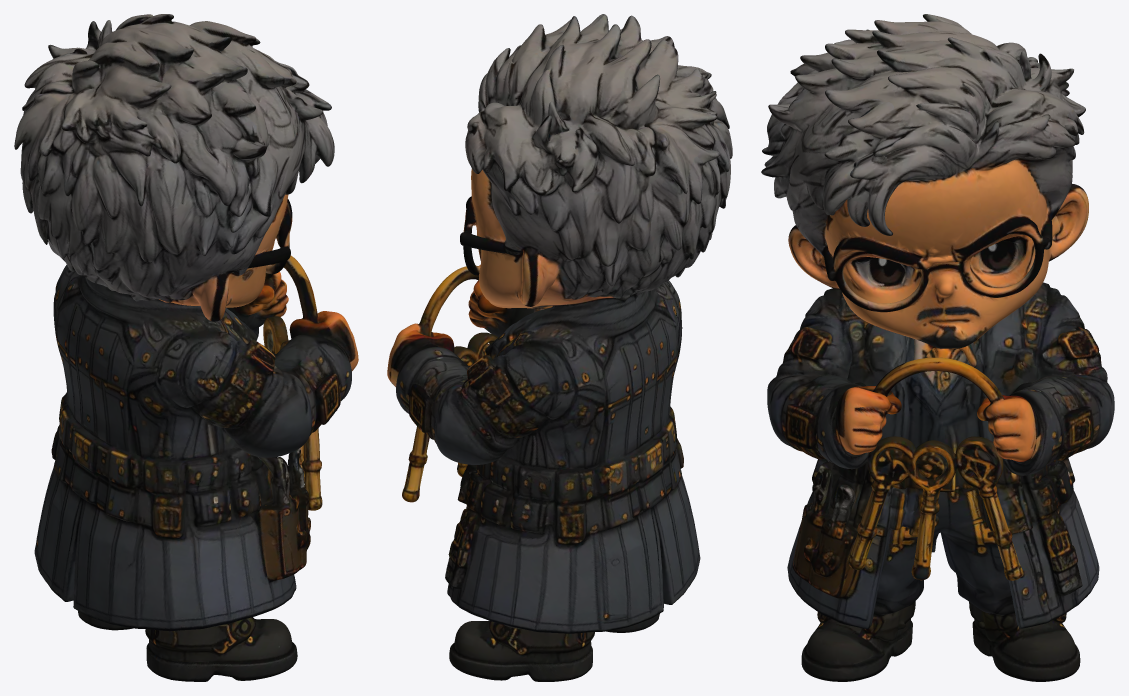
File: hozen.glb
3 renders of one model, left to right at view 1: azimuth 30°, elevation 25°; view 2: azimuth 150°, elevation 25°; view 3: azimuth 270°, elevation 25°, orthographic. The views are drawn at different scales.
Visible parts, largest first — view 1: tripo_node_cbbe3691-b9b4-46e0-a4cf-ae67e46203a1; view 2: tripo_node_cbbe3691-b9b4-46e0-a4cf-ae67e46203a1; view 3: tripo_node_cbbe3691-b9b4-46e0-a4cf-ae67e46203a1.
Part boxes in pixels (<box>): tripo_node_cbbe3691-b9b4-46e0-a4cf-ae67e46203a1: <box>14,14,358,681</box>; tripo_node_cbbe3691-b9b4-46e0-a4cf-ae67e46203a1: <box>387,14,732,681</box>; tripo_node_cbbe3691-b9b4-46e0-a4cf-ae67e46203a1: <box>761,14,1114,681</box>.
Size of the model in its own units: 0.4906 by 1 by 0.5184.
Materials: 1 (1 with a texture image).
